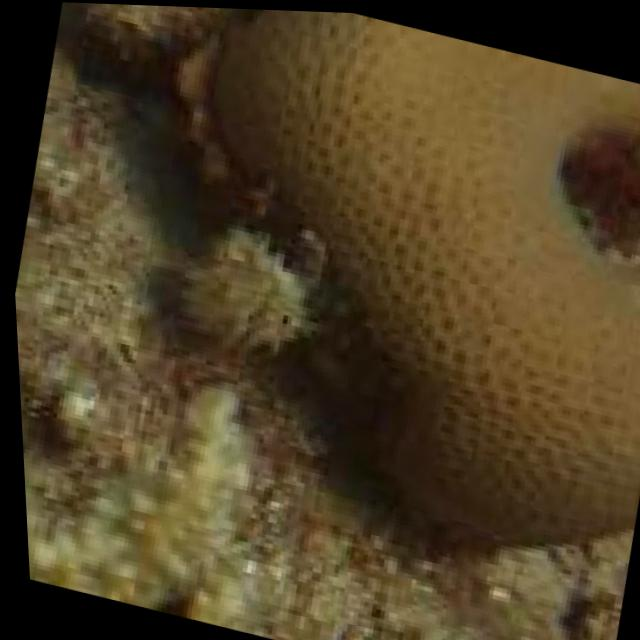Bleached Coral: (7, 181, 317, 632)
